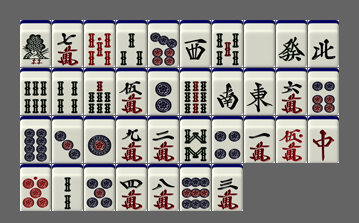0m: (276, 116, 307, 163)
0p: (20, 164, 51, 211)
0s: (84, 20, 115, 67)
1m: (244, 116, 275, 163)
1p: (84, 116, 115, 163)
1s: (20, 20, 51, 67)
1z: (244, 68, 275, 115)
2m: (148, 116, 179, 163)
2p: (148, 68, 179, 115)
2s: (52, 164, 83, 211)
2z: (212, 68, 243, 115)
3m: (212, 164, 243, 211)
3p: (52, 116, 83, 163)
3s: (116, 20, 147, 67)
3z: (180, 20, 211, 67)
4m: (116, 164, 147, 211)
4p: (212, 116, 243, 163)
4s: (52, 68, 83, 115)
4z: (308, 20, 339, 67)
5m: (116, 68, 147, 115)
5p: (84, 164, 115, 211)
5s: (212, 20, 243, 67)
5z: (244, 20, 275, 67)
6m: (276, 68, 307, 115)
6p: (308, 68, 339, 115)
6s: (20, 68, 51, 115)
6z: (276, 20, 307, 67)
7m: (52, 20, 83, 67)
7p: (148, 20, 179, 67)
7s: (84, 68, 115, 115)
7z: (308, 116, 339, 163)
8m: (148, 164, 179, 211)
8p: (20, 116, 51, 163)
8s: (180, 116, 211, 163)
9m: (116, 116, 147, 163)
9p: (180, 164, 211, 211)
9s: (180, 68, 211, 115)
